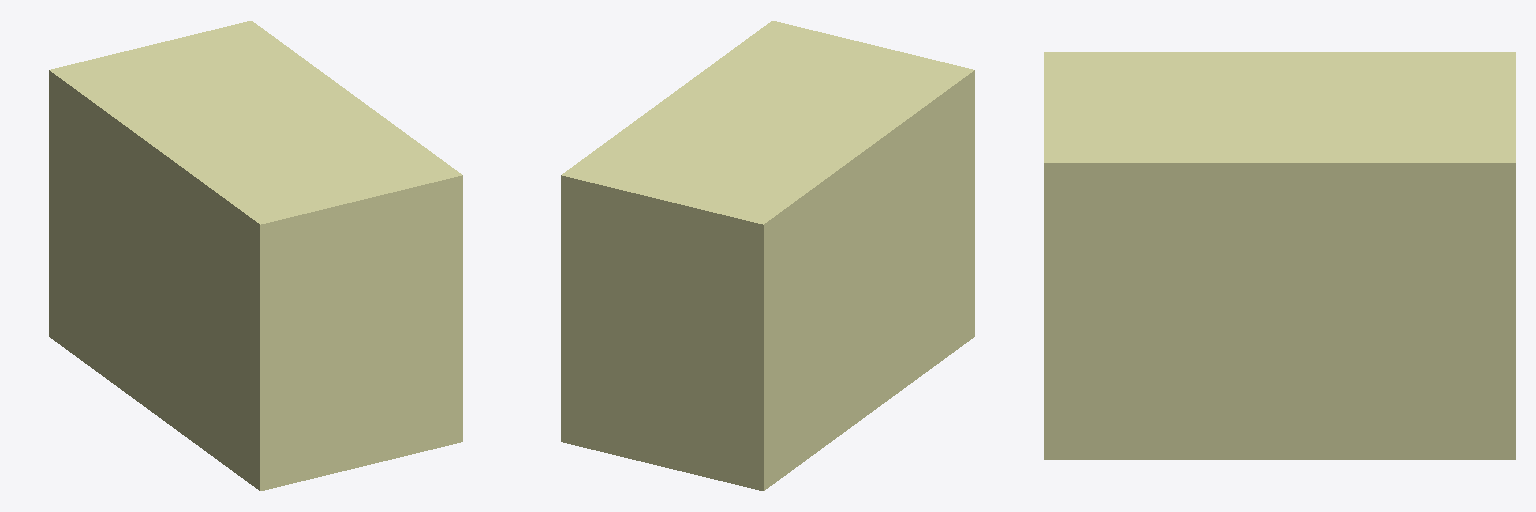
The robot description file, URDF, robot "box.urdf":
<?xml version="1.0" ?>
<robot name="box.urdf">
  <link name="baseLink">
    <contact>
      <lateral_friction value="1.0"/>
      <rolling_friction value="0.0001"/>
      <inertia_scaling value="3.0"/>
    </contact>
    <inertial>
      <origin rpy="0 0 0" xyz="0 0 0"/>
       <mass value="0.1"/>
       <inertia ixx="1" ixy="0" ixz="0" iyy="1" iyz="0" izz="1"/>
    </inertial>
    <visual>
      <origin rpy="0 0 0" xyz="0 0 0"/>
      <geometry>
        <!-- <box size="0.20199999999999999 0.365 0.254"/> -->
        <mesh filename="box/box.obj" scale="0.20199999999999999 0.365 0.254"/>
      </geometry>
      <material name="white">
        <color rgba="0.9 0.9 0.7 1"/>
      </material>
    </visual>
    <collision>
      <origin rpy="0 0 0" xyz="0 0 0"/>
      <geometry>
        <mesh filename="box/box.obj" scale="0.20199999999999999 0.365 0.254"/>
	 	    <!-- <box size="0.20199999999999999 0.365 0.254"/> -->
      </geometry>
    </collision>
  </link>
</robot>

--- Facts derived from the render (not from the file) ---
The picture shows the robot from 3 angles, left to right: view 1: azimuth 30°, elevation 25°; view 2: azimuth 150°, elevation 25°; view 3: azimuth 270°, elevation 25°; orthographic projection.
Robot: box.urdf — 1 links, 0 joints (none); root link baseLink; default pose: all joints at 0.
Links seen in each view (by area): view 1: baseLink; view 2: baseLink; view 3: baseLink.
Link boxes in pixels (x1=…): baseLink: x1=49, y1=21, x2=462, y2=490; baseLink: x1=561, y1=21, x2=974, y2=490; baseLink: x1=1044, y1=52, x2=1515, y2=459.
Size in the robot's own frame: 0.202 by 0.365 by 0.254 metres.
1 mesh visuals loaded from 1 distinct referenced files (1 OBJ).
